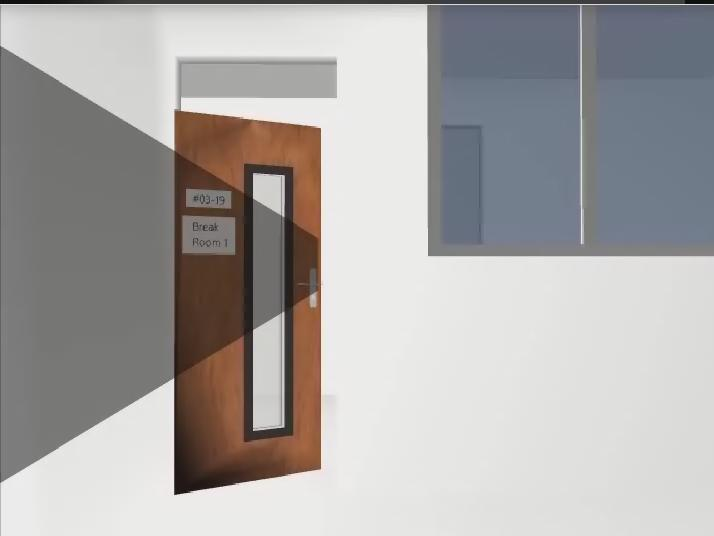door: (175, 111, 321, 495)
